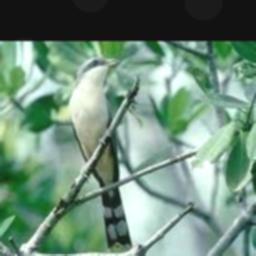Cuckoo: (70, 57, 133, 255)
